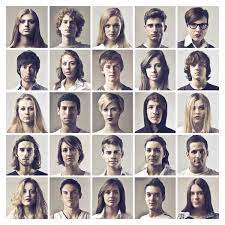face: (59, 16, 81, 38), (103, 20, 124, 40), (188, 20, 208, 40), (143, 146, 163, 166), (17, 16, 36, 36), (17, 60, 36, 80), (145, 20, 164, 40), (186, 148, 206, 167), (188, 61, 207, 80), (101, 62, 121, 80), (145, 60, 163, 80), (59, 147, 80, 164), (187, 189, 206, 207), (104, 149, 122, 168), (61, 190, 80, 208), (16, 147, 35, 165), (144, 191, 161, 210), (59, 60, 79, 76), (100, 107, 120, 123), (190, 102, 205, 123), (147, 103, 163, 122), (103, 188, 120, 205), (22, 187, 36, 207), (18, 105, 34, 122)
